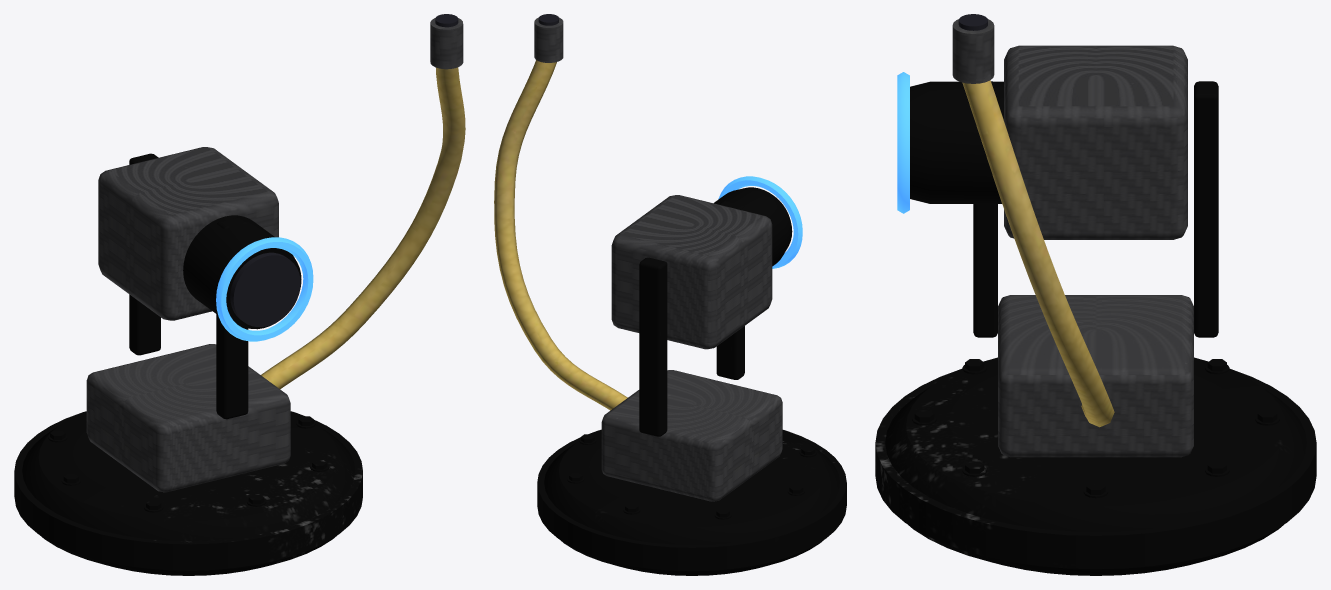
3 renders of one model, left to right at view 1: azimuth 30°, elevation 25°; view 2: azimuth 150°, elevation 25°; view 3: azimuth 270°, elevation 25°, orthographic. The views are drawn at different scales.
Parts seen in each view (by area): view 1: TL05_Static_Titanium, TL05_Static_CarbonFiber, TL05_Static_KevlarWire, TL05_Static_AnodizedBlack, TL05_Static_LensOptic, TL05_Static_LED; view 2: TL05_Static_CarbonFiber, TL05_Static_Titanium, TL05_Static_KevlarWire, TL05_Static_AnodizedBlack, TL05_Static_LED; view 3: TL05_Static_Titanium, TL05_Static_CarbonFiber, TL05_Static_KevlarWire, TL05_Static_AnodizedBlack, TL05_Static_LED.
Boxes of the visible parts, <box> form: TL05_Static_Titanium: <box>14,153,362,575</box>; TL05_Static_CarbonFiber: <box>86,18,463,492</box>; TL05_Static_KevlarWire: <box>261,67,465,389</box>; TL05_Static_AnodizedBlack: <box>183,215,301,329</box>; TL05_Static_LensOptic: <box>230,14,458,326</box>; TL05_Static_LED: <box>216,237,313,341</box>; TL05_Static_CarbonFiber: <box>534,17,782,501</box>; TL05_Static_Titanium: <box>537,201,846,575</box>; TL05_Static_KevlarWire: <box>494,60,627,410</box>; TL05_Static_AnodizedBlack: <box>714,187,792,266</box>; TL05_Static_LED: <box>718,176,802,268</box>; TL05_Static_Titanium: <box>875,81,1316,575</box>; TL05_Static_CarbonFiber: <box>952,19,1193,457</box>; TL05_Static_KevlarWire: <box>962,80,1114,427</box>; TL05_Static_AnodizedBlack: <box>910,81,1003,203</box>; TL05_Static_LED: <box>897,72,909,213</box>.
Bounding box in the file's own units: 0.473 × 0.547 × 0.36.
6 materials, 4 textured.
